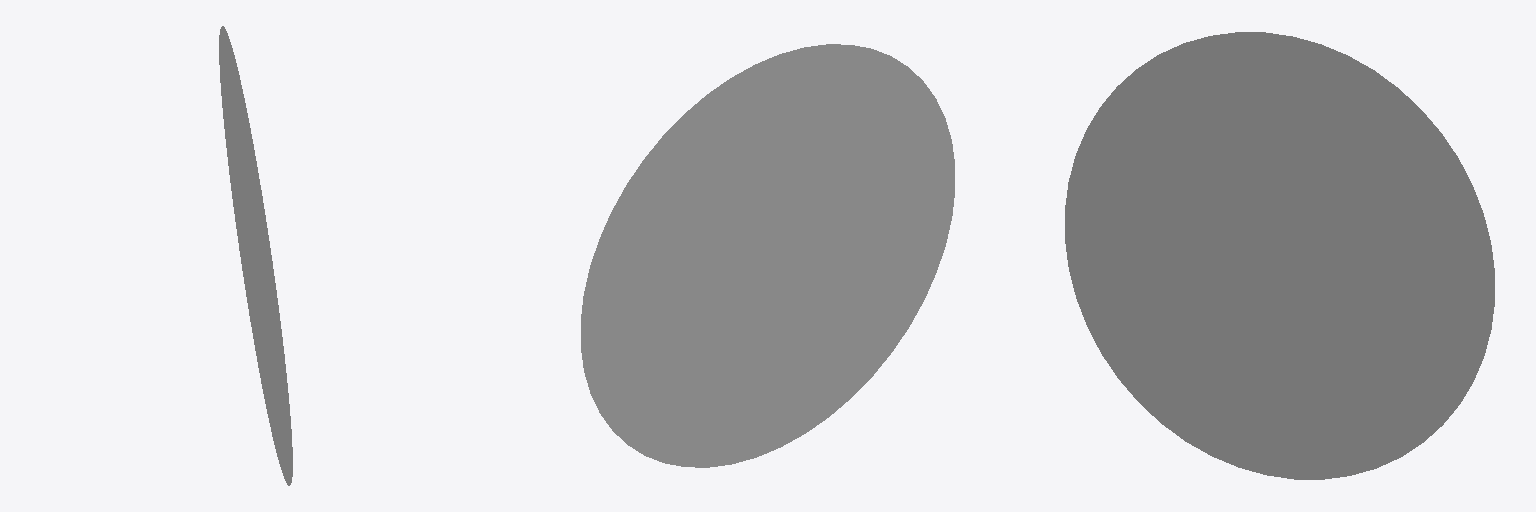
Rendered from backlight_left.obj.
3 renders of one model, left to right at view 1: azimuth 30°, elevation 25°; view 2: azimuth 150°, elevation 25°; view 3: azimuth 270°, elevation 25°, orthographic.
Parts seen in each view (by area): view 1: backlight_left; view 2: backlight_left; view 3: backlight_left.
Boxes of the visible parts, x1,y1,x2,y2 form: backlight_left: [219, 26, 292, 485]; backlight_left: [581, 44, 954, 467]; backlight_left: [1065, 32, 1494, 479].
Bounding box in the file's own units: 0.0798 × 0.1967 × 0.182.